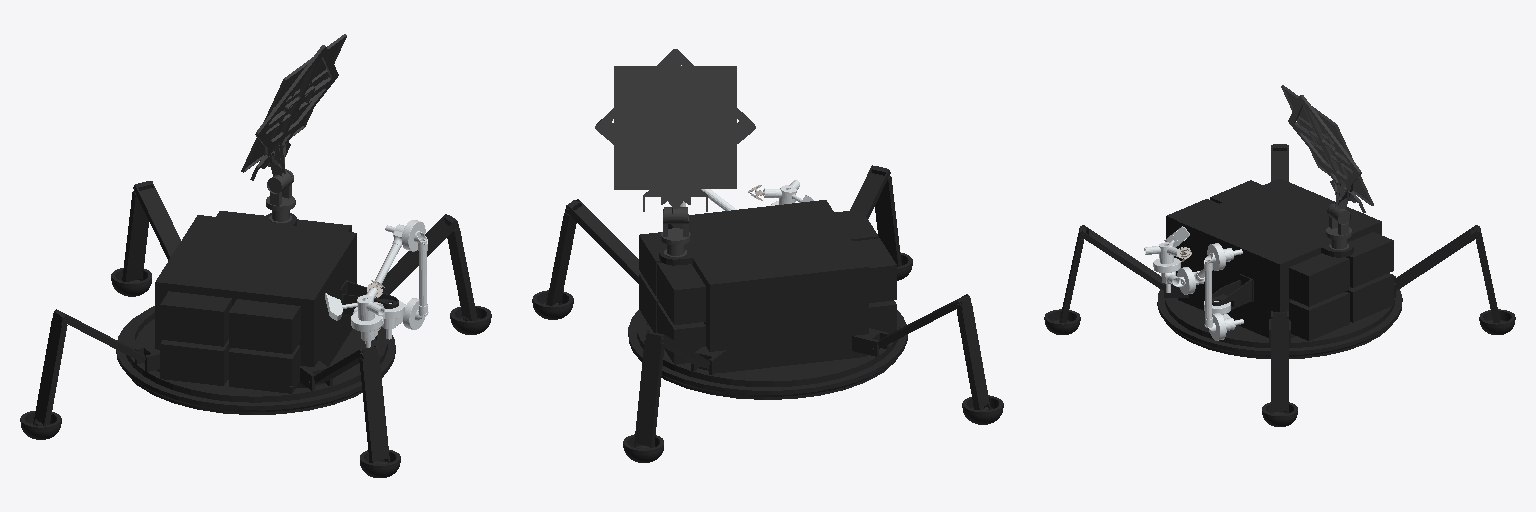
URDF robot description (lander):
<robot
  name="lander">
  <link
    name="base_link">
    <inertial>
      <origin
        xyz="-0.174891183141199 0.105186140838806 0.499102801889294"
        rpy="0 0 0" />
      <mass
        value="921.409320871089" />
      <inertia
        ixx="33.2402321826437"
        ixy="0.60557675951993"
        ixz="-0.0951190939564292"
        iyy="33.9643287034463"
        iyz="0.0499080883396483"
        izz="63.3487609623066" />
    </inertial>
    <visual>
      <origin
        xyz="0 0 0"
        rpy="0 0 0" />
      <geometry>
        <mesh
          filename="package://ow_lander/meshes/lander_body.STL" />
      </geometry>
      <material
        name="">
        <color
          rgba="0.2 0.2 0.2 1" />
      </material>
    </visual>
    <collision>
      <origin
        xyz="0 0 0"
        rpy="0 0 0" />
      <geometry>
        <mesh
          filename="package://ow_lander/meshes/lander_body.STL" />
      </geometry>
    </collision>
  </link>
  <link
    name="link_shoulder">
    <inertial>
      <origin
        xyz="0.0560579395709874 0.141768391065364 0.00404480198837498"
        rpy="0 0 0" />
      <mass
        value="6.82139097144578" />
      <inertia
        ixx="0.00893744641566868"
        ixy="0.00781896786597782"
        ixz="-0.00236278992626154"
        iyy="0.0275545990944527"
        iyz="0.000600617787047249"
        izz="0.0360781788843499" />
    </inertial>
    <visual>
      <origin
        xyz="0 0 0"
        rpy="0 0 0" />
      <geometry>
        <mesh
          filename="package://ow_lander/meshes/link_shoulder.STL" />
      </geometry>
      <material
        name="">
        <color
          rgba="0.898039215686275 0.917647058823529 0.929411764705882 1" />
      </material>
    </visual>
    <collision>
      <origin
        xyz="0 0 0"
        rpy="0 0 0" />
      <geometry>
        <mesh
          filename="package://ow_lander/meshes/link_shoulder.STL" />
      </geometry>
    </collision>
  </link>
  <joint
    name="joint_shoulder_yaw"
    type="continuous">
    <origin
      xyz="0.504875558700385 -0.329105217556347 0.325000000000001"
      rpy="1.5707963267949 2.74973548348948E-17 0.46573620389147" />
    <parent
      link="base_link" />
    <child
      link="link_shoulder" />
    <axis
      xyz="0 1 0" />
  </joint>
  <transmission name="shoulder_yaw_transmission">
    <type>transmission_interface/SimpleTransmission</type>
    <joint name="joint_shoulder_yaw">
      <hardwareInterface>hardware_interface/EffortJointInterface</hardwareInterface>
    </joint>
    <actuator name="shoulder_yaw_motor">
      <mechanicalReduction>1</mechanicalReduction>
    </actuator>
  </transmission>
  <link
    name="link_proximal">
    <inertial>
      <origin
        xyz="-0.0492100785879154 0.13596231010573 -0.00264198593257192"
        rpy="0 0 0" />
      <mass
        value="4.19334465872563" />
      <inertia
        ixx="0.0984810896192592"
        ixy="0.0219047703464202"
        ixz="-0.000425647279922649"
        iyy="0.0113852386512403"
        iyz="0.00191279732232413"
        izz="0.109791995726008" />
    </inertial>
    <visual>
      <origin
        xyz="0 0 0"
        rpy="0 0 0" />
      <geometry>
        <mesh
          filename="package://ow_lander/meshes/link_proximal.STL" />
      </geometry>
      <material
        name="">
        <color
          rgba="0.898039215686275 0.917647058823529 0.929411764705882 1" />
      </material>
    </visual>
    <collision>
      <origin
        xyz="0 0 0"
        rpy="0 0 0" />
      <geometry>
        <mesh
          filename="package://ow_lander/meshes/link_proximal.STL" />
      </geometry>
    </collision>
  </link>
  <joint
    name="joint_shoulder_pitch"
    type="continuous">
    <origin
      xyz="0.160000000000006 0.119999999999994 0.0549999999999998"
      rpy="-3.07263964126294 1.57079630572147 -3.07263964126294" />
    <parent
      link="link_shoulder" />
    <child
      link="link_proximal" />
    <axis
      xyz="-1 0 0" />
  </joint>
  <transmission name="shoulder_pitch_transmission">
    <type>transmission_interface/SimpleTransmission</type>
    <joint name="joint_shoulder_pitch">
      <hardwareInterface>hardware_interface/EffortJointInterface</hardwareInterface>
    </joint>
    <actuator name="shoulder_pitch_motor">
      <mechanicalReduction>1</mechanicalReduction>
    </actuator>
  </transmission>
  <link
    name="link_distal">
    <inertial>
      <origin
        xyz="-0.0270676297110266 1.19266541087626E-09 0.215098268051955"
        rpy="0 0 0" />
      <mass
        value="7.67831405851241" />
      <inertia
        ixx="0.448007770505405"
        ixy="3.27562144075699E-11"
        ixz="0.0217064684901283"
        iyy="0.456482852663482"
        iyz="-7.1993979908723E-08"
        izz="0.00847508215811156" />
    </inertial>
    <visual>
      <origin
        xyz="0 0 0"
        rpy="0 0 0" />
      <geometry>
        <mesh
          filename="package://ow_lander/meshes/link_distal.STL" />
      </geometry>
      <material
        name="">
        <color
          rgba="0.898039215686275 0.917647058823529 0.929411764705882 1" />
      </material>
    </visual>
    <collision>
      <origin
        xyz="0 0 0"
        rpy="0 0 0" />
      <geometry>
        <mesh
          filename="package://ow_lander/meshes/link_distal.STL" />
      </geometry>
    </collision>
  </link>
  <joint
    name="joint_proximal_pitch"
    type="continuous">
    <origin
      xyz="0 0.52989996780278 -0.0102968015714265"
      rpy="-2.4583426132036 -5.55111512312578E-17 -3.14159265358979" />
    <parent
      link="link_proximal" />
    <child
      link="link_distal" />
    <axis
      xyz="1 0 0" />
  </joint>
  <transmission name="proximal_pitch_transmission">
    <type>transmission_interface/SimpleTransmission</type>
    <joint name="joint_proximal_pitch">
      <hardwareInterface>hardware_interface/EffortJointInterface</hardwareInterface>
    </joint>
    <actuator name="proximal_pitch_motor">
      <mechanicalReduction>1</mechanicalReduction>
    </actuator>
  </transmission>
  <link
    name="link_wrist">
    <inertial>
      <origin
        xyz="0.0598274983548339 -0.00683833441329951 -0.0773548039852737"
        rpy="0 0 0" />
      <mass
        value="4.03473451988803" />
      <inertia
        ixx="0.0233350554047849"
        ixy="0.000832485639475045"
        ixz="0.00924084473050794"
        iyy="0.0271779846566029"
        iyz="-0.00229121026195695"
        izz="0.00433425186366915" />
    </inertial>
    <visual>
      <origin
        xyz="0 0 0"
        rpy="0 0 0" />
      <geometry>
        <mesh
          filename="package://ow_lander/meshes/link_wrist.STL" />
      </geometry>
      <material
        name="">
        <color
          rgba="0.898039215686275 0.917647058823529 0.929411764705882 1" />
      </material>
    </visual>
    <collision>
      <origin
        xyz="0 0 0"
        rpy="0 0 0" />
      <geometry>
        <mesh
          filename="package://ow_lander/meshes/link_wrist.STL" />
      </geometry>
    </collision>
  </link>
  <joint
    name="joint_distal_pitch"
    type="continuous">
    <origin
      xyz="0.00500000000000056 0 0.586000000000023"
      rpy="2.56643026615587 3.77475828372553E-15 1.94289029309402E-15" />
    <parent
      link="link_distal" />
    <child
      link="link_wrist" />
    <axis
      xyz="1 0 0" />
  </joint>
  <transmission name="distal_pitch_transmission">
    <type>transmission_interface/SimpleTransmission</type>
    <joint name="joint_distal_pitch">
      <hardwareInterface>hardware_interface/EffortJointInterface</hardwareInterface>
    </joint>
    <actuator name="distal_pitch_motor">
      <mechanicalReduction>1</mechanicalReduction>
    </actuator>
  </transmission>
  <link
    name="link_hand">
    <inertial>
      <origin
        xyz="0.0559835529936636 0.00390822003474067 0.00225571287946436"
        rpy="0 0 0" />
      <mass
        value="3.29341647546119" />
      <inertia
        ixx="0.000109355149428239"
        ixy="-0.000992165341035474"
        ixz="-0.000572649471646507"
        iyy="0.0168063828016295"
        iyz="-4.73448318734377E-05"
        izz="0.0168610857840526" />
    </inertial>
    <visual>
      <origin
        xyz="0 0 0"
        rpy="0 0 0" />
      <geometry>
        <mesh
          filename="package://ow_lander/meshes/link_hand.STL" />
      </geometry>
      <material
        name="">
        <color
          rgba="0.898039215686275 0.917647058823529 0.929411764705882 1" />
      </material>
    </visual>
    <collision>
      <origin
        xyz="0 0 0"
        rpy="0 0 0" />
      <geometry>
        <mesh
          filename="package://ow_lander/meshes/link_hand.STL" />
      </geometry>
    </collision>
  </link>
  <joint
    name="joint_wrist_yaw"
    type="continuous">
    <origin
      xyz="0.0899999999999999 -0.0549999999998739 -0.162999999999922"
      rpy="0.248206795067281 -2.27248775352962E-15 -1.5707963267949" />
    <parent
      link="link_wrist" />
    <child
      link="link_hand" />
    <axis
      xyz="1 0 0" />
  </joint>
  <transmission name="wrist_yaw_transmission">
    <type>transmission_interface/SimpleTransmission</type>
    <joint name="joint_wrist_yaw">
      <hardwareInterface>hardware_interface/EffortJointInterface</hardwareInterface>
    </joint>
    <actuator name="wrist_yaw_motor">
      <mechanicalReduction>1</mechanicalReduction>
    </actuator>
  </transmission>
  <link
    name="ee_scoop">
    <inertial>
      <origin
        xyz="-0.045328379765103 0.000904857629523192 -0.000953809607952549"
        rpy="0 0 0" />
      <mass
        value="0.191928708332058" />
      <inertia
        ixx="0.000210835811046482"
        ixy="3.52685415920896E-05"
        ixz="-1.47037151730351E-05"
        iyy="0.000167404759271315"
        iyz="7.5252100662615E-05"
        izz="0.00031505343178764" />
    </inertial>
    <visual>
      <origin
        xyz="0 0 0"
        rpy="0 0 0" />
      <geometry>
        <mesh
          filename="package://ow_lander/meshes/ee_scoop.STL" />
      </geometry>
      <material
        name="">
        <color
          rgba="0.898039215686275 0.917647058823529 0.929411764705882 1" />
      </material>
    </visual>
    <collision>
      <origin
        xyz="0 0 0"
        rpy="0 0 0" />
      <geometry>
        <mesh
          filename="package://ow_lander/meshes/ee_scoop.STL" />
      </geometry>
    </collision>
  </link>
  <joint
    name="joint_scoop_roll"
    type="continuous">
    <origin
      xyz="0.144999999999659 -0.129903810567612 -0.0749999999997883"
      rpy="3.06398447183486 -0.523598775598299 1.5707963267949" />
    <parent
      link="link_hand" />
    <child
      link="ee_scoop" />
    <axis
      xyz="1 0 0" />
  </joint>
  <transmission name="scoop_roll_transmission">
    <type>transmission_interface/SimpleTransmission</type>
    <joint name="joint_scoop_roll">
      <hardwareInterface>hardware_interface/EffortJointInterface</hardwareInterface>
    </joint>
    <actuator name="scoop_roll_motor">
      <mechanicalReduction>1</mechanicalReduction>
    </actuator>
  </transmission>
  <link
    name="ee_rasps">
    <inertial>
      <origin
        xyz="-0.0396046436167999 5.0597152036147E-05 -9.48547633605745E-06"
        rpy="0 0 0" />
      <mass
        value="0.611443633085363" />
      <inertia
        ixx="0.000210835811046482"
        ixy="3.52685415920896E-05"
        ixz="-1.47037151730351E-05"
        iyy="0.000167404759271315"
        iyz="7.5252100662615E-05"
        izz="0.00031505343178764" />
    </inertial>
    <visual>
      <origin
        xyz="0 0 0"
        rpy="0 0 0" />
      <geometry>
        <mesh
          filename="package://ow_lander/meshes/ee_rasps.STL" />
      </geometry>
      <material
        name="">
        <color
          rgba="0.776470588235294 0.756862745098039 0.737254901960784 1" />
      </material>
    </visual>
    <collision>
      <origin
        xyz="0 0 0"
        rpy="0 0 0" />
      <geometry>
        <mesh
          filename="package://ow_lander/meshes/ee_rasps.STL" />
      </geometry>
    </collision>
  </link>
  <joint
    name="joint_rasps_roll"
    type="continuous">
    <origin
      xyz="0.144675204172091 0 0.148800000000212"
      rpy="1.54414527281543 1.5707963267949 0" />
    <parent
      link="link_hand" />
    <child
      link="ee_rasps" />
    <axis
      xyz="-1 0 0" />
  </joint>
  <transmission name="rasps_roll_transmission">
    <type>transmission_interface/SimpleTransmission</type>
    <joint name="joint_rasps_roll">
      <hardwareInterface>hardware_interface/EffortJointInterface</hardwareInterface>
    </joint>
    <actuator name="rasps_roll_motor">
      <mechanicalReduction>1</mechanicalReduction>
    </actuator>
  </transmission>
  <link
    name="antenna_arm">
    <inertial>
      <origin
        xyz="-0.0229678126754235 -1.94289029309402E-16 1.11022302462516E-16"
        rpy="0 0 0" />
      <mass
        value="0.939669875432376" />
      <inertia
        ixx="0.01"
        ixy="-2.6401631214636E-18"
        ixz="1.02938334166052E-18"
        iyy="0.00117207134038222"
        iyz="2.31874958704716E-33"
        izz="0.00117207134038222" />
    </inertial>
    <visual>
      <origin
        xyz="0 0 0"
        rpy="0 0 0" />
      <geometry>
        <mesh
          filename="package://ow_lander/meshes/antenna_arm.STL" />
      </geometry>
      <material
        name="">
        <color
          rgba="0.294117647058824 0.294117647058824 0.294117647058824 1" />
      </material>
    </visual>
    <collision>
      <origin
        xyz="0 0 0"
        rpy="0 0 0" />
      <geometry>
        <mesh
          filename="package://ow_lander/meshes/antenna_arm.STL" />
      </geometry>
    </collision>
  </link>
  <joint
    name="joint_antenna_pan"
    type="continuous">
    <origin
      xyz="0.232639447943562 0.515887385961576 0.972"
      rpy="1.5707963267949 1.5707963267949 0" />
    <parent
      link="base_link" />
    <child
      link="antenna_arm" />
    <axis
      xyz="-1 0 0" />
  </joint>
  <link
    name="antenna_panel">
    <inertial>
      <origin
        xyz="0.464100409790638 0.122666143163037 -0.0894057800416915"
        rpy="0 0 0" />
      <mass
        value="16.0257507120422" />
      <inertia
        ixx="0.0140050584574044"
        ixy="-0.0298927602332499"
        ixz="0.0491250927124288"
        iyy="0.261804157350979"
        iyz="0.00584229359244508"
        izz="0.254909203187956" />
    </inertial>
    <visual>
      <origin
        xyz="0 0 0"
        rpy="0 0 0" />
      <geometry>
        <mesh
          filename="package://ow_lander/meshes/antenna_panel.STL" />
      </geometry>
      <material
        name="">
        <color
          rgba="0.294117647058824 0.294117647058824 0.294117647058824 1" />
      </material>
    </visual>
    <collision>
      <origin
        xyz="0 0 0"
        rpy="0 0 0" />
      <geometry>
        <mesh
          filename="package://ow_lander/meshes/antenna_panel.STL" />
      </geometry>
    </collision>
  </link>
  <joint
    name="joint_antenna_tilt"
    type="continuous">
    <origin
      xyz="-0.12605070280898 -0.0570909851205665 0.0331152444949944"
      rpy="-2.61901890379663 -0.0592882539038171 -3.03907977308166" />
    <parent
      link="antenna_arm" />
    <child
      link="antenna_panel" />
    <axis
      xyz="0.118094635160747 -0.993002344985272 0" />
  </joint>

  <gazebo>
    <!--plugin name="gazebo_ros_control" filename="libgazebo_ros_control.so">
      <robotNamespace>/</robotNamespace>
    </plugin-->

    <!-- Publish joint states so rviz can visualize them. -->
    <plugin name="joint_state_publisher" filename="libgazebo_ros_joint_state_publisher.so">
      <jointName>joint_shoulder_yaw, joint_shoulder_pitch, joint_proximal_pitch,
       joint_distal_pitch, joint_wrist_yaw, joint_scoop_roll, joint_rasps_roll,
       joint_antenna_pan, joint_antenna_tilt</jointName>
      <updateRate>10</updateRate>
    </plugin>
  </gazebo>
</robot>

--- What the picture shows (computed from the rendered views, not written in the file) ---
Views: 3 orthographic renders of the robot side by side, from view 1: azimuth 30°, elevation 25°; view 2: azimuth 150°, elevation 25°; view 3: azimuth 270°, elevation 25°.
Robot: lander — 10 links, 9 joints (9 continuous); root link base_link; default pose: all joints at 0.
Visible links, largest first — view 1: base_link, antenna_panel, link_proximal, link_hand, link_distal, antenna_arm; view 2: base_link, antenna_panel, antenna_arm, link_hand; view 3: base_link, antenna_panel, link_proximal, antenna_arm, link_hand, link_distal, link_wrist.
Boxes of the visible links, x1=… form: base_link: x1=20, y1=181, x2=491, y2=477; antenna_panel: x1=241, y1=34, x2=346, y2=189; link_proximal: x1=403, y1=231, x2=428, y2=329; link_hand: x1=342, y1=288, x2=384, y2=347; link_distal: x1=353, y1=220, x2=425, y2=313; antenna_arm: x1=266, y1=169, x2=295, y2=222; base_link: x1=532, y1=165, x2=1003, y2=462; antenna_panel: x1=595, y1=49, x2=755, y2=223; antenna_arm: x1=661, y1=207, x2=690, y2=257; link_hand: x1=763, y1=180, x2=801, y2=205; base_link: x1=1044, y1=144, x2=1515, y2=426; antenna_panel: x1=1281, y1=85, x2=1373, y2=220; link_proximal: x1=1204, y1=253, x2=1243, y2=340; antenna_arm: x1=1326, y1=203, x2=1351, y2=250; link_hand: x1=1144, y1=240, x2=1180, y2=292; link_distal: x1=1182, y1=243, x2=1242, y2=284; link_wrist: x1=1161, y1=267, x2=1195, y2=294.
Size in the robot's own frame: 3.26 by 3.26 by 2.08 metres.
Meshes: 10 distinct files referenced, 10 mesh visuals loaded (10 binary STL).